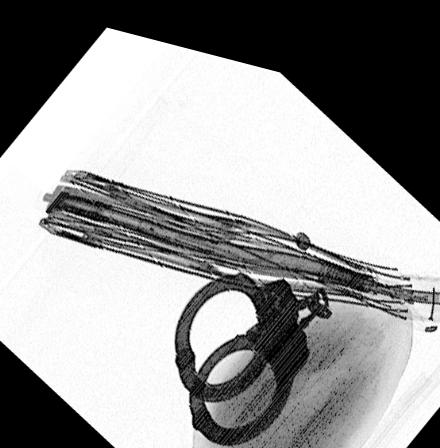HandCuffs: (173, 257, 331, 433)
